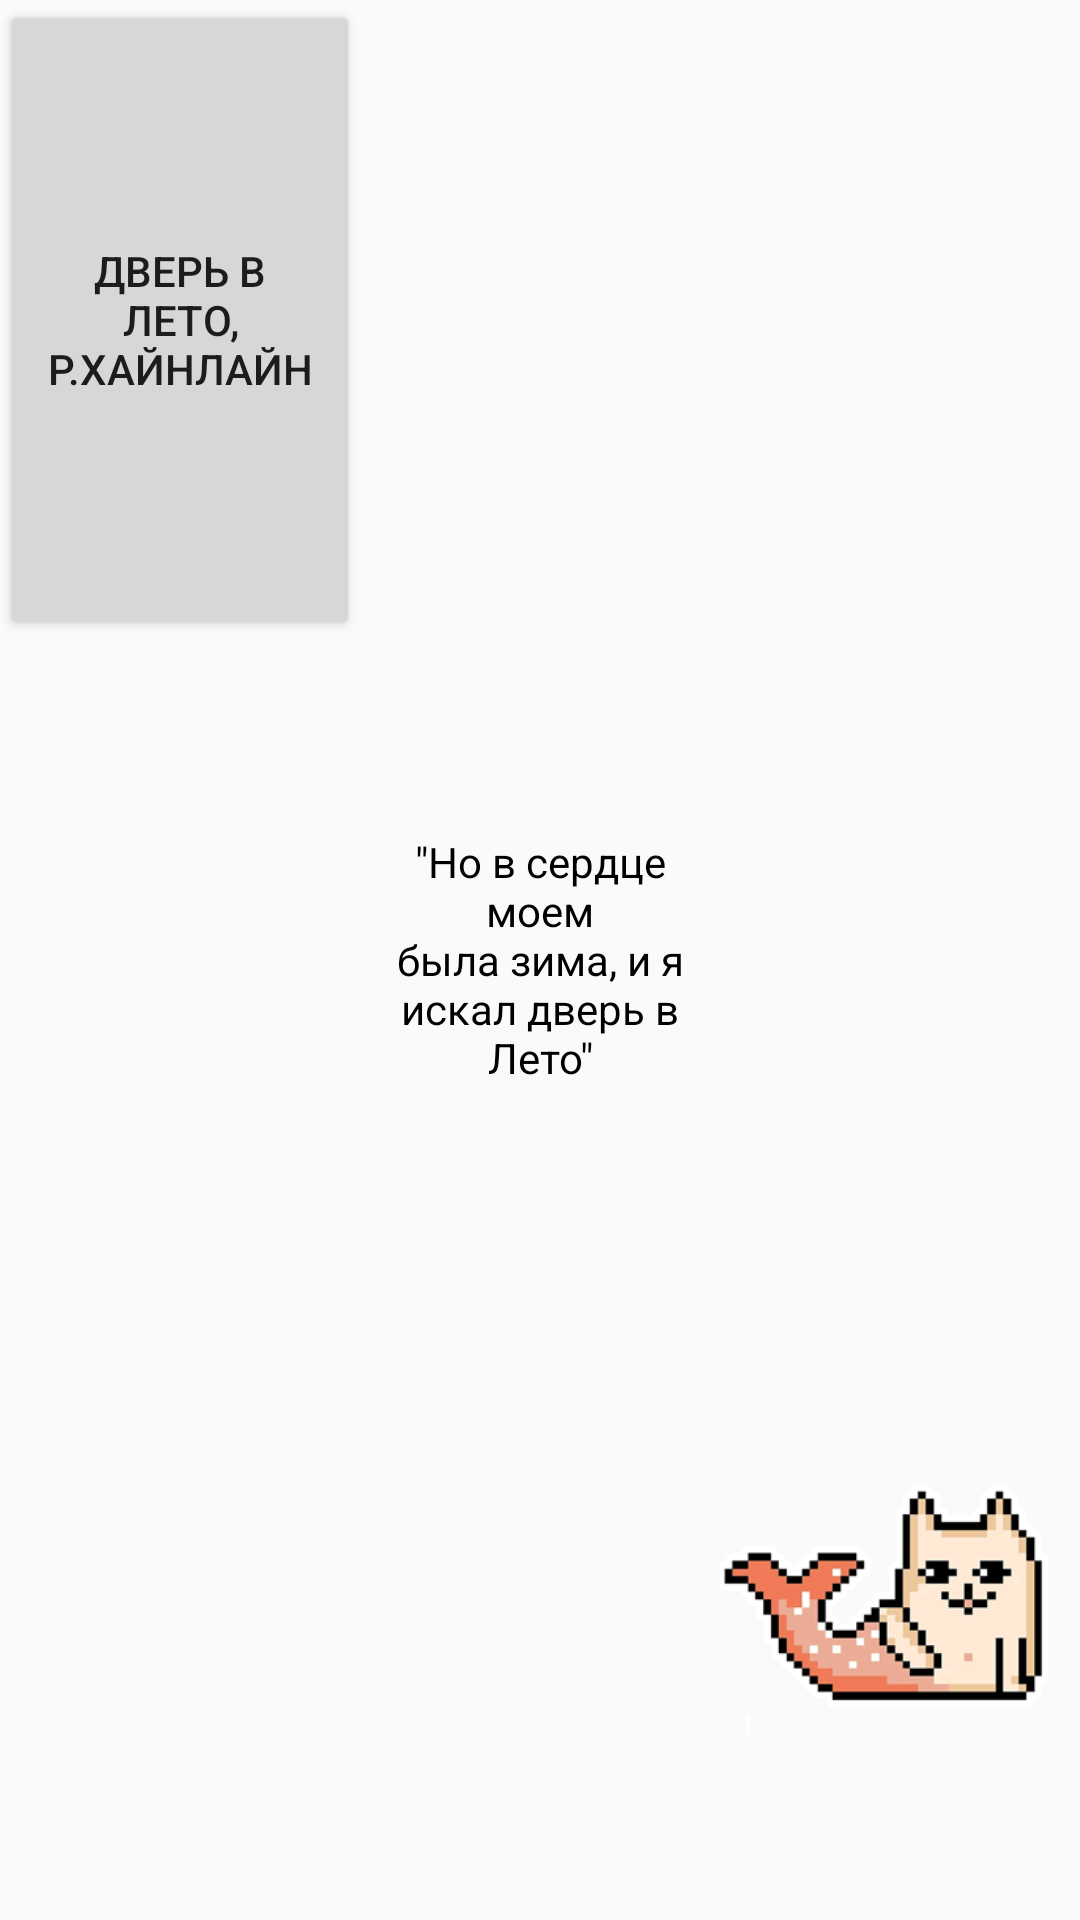

Locate icon controls on the screen. Image size 1080×1920, boxes as rect(x1, y1, x2, y2).
catm: rect(724, 1490, 1042, 1701)
